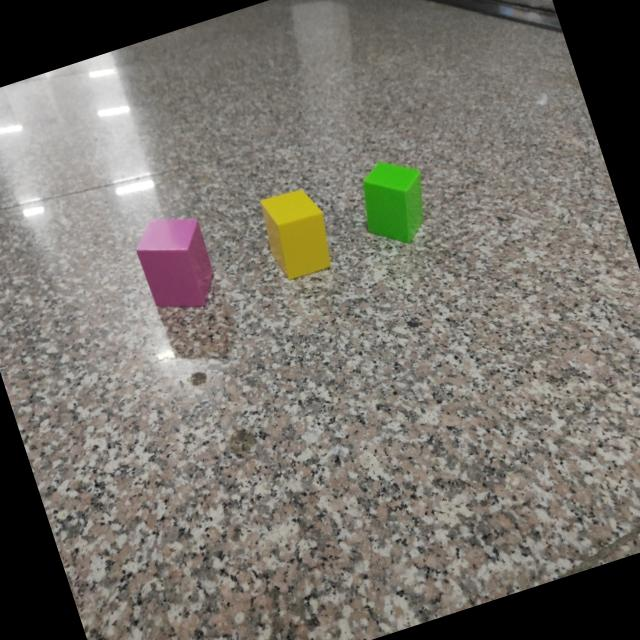green: (362, 163, 425, 245)
pink: (136, 218, 215, 313)
yellow: (261, 189, 332, 281)
